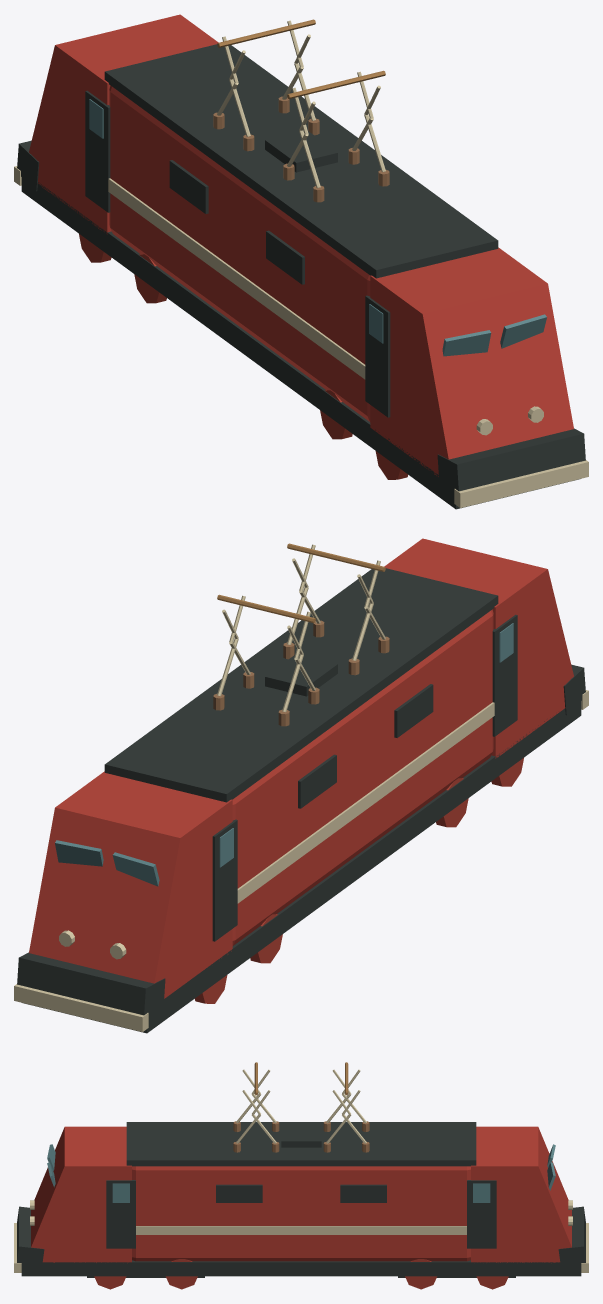
Rendered from nord-el-18_lod1.glb.
3 views of the same model, one above another, from view 1: azimuth 30°, elevation 25°; view 2: azimuth 150°, elevation 25°; view 3: azimuth 270°, elevation 25° (orthographic). The views are drawn at different scales.
Visible parts, largest first — view 1: RF_El18_Body, RF_El18_Roof, RF_El18_StreamlinedCab.001, RF_El18_StreamlinedCab, RF_El18_Chassis, RF_El18_LowerSkirt.001, RF_El18_SilverBand.001, RF_El18_BufferBeam.001, RF_El18_CabDoor.002, RF_El18_CabDoor.001, RF_El18_RoofEquipment, RF_El18_Intake.002 (+4 smaller); view 2: RF_El18_Body, RF_El18_Roof, RF_El18_StreamlinedCab, RF_El18_StreamlinedCab.001, RF_El18_Chassis, RF_El18_LowerSkirt, RF_El18_SilverBand.001, RF_El18_BufferBeam, RF_El18_CabDoor.001, RF_El18_CabDoor.002, RF_El18_RoofEquipment, RF_El18_Intake.001 (+4 smaller); view 3: RF_El18_Body, RF_El18_Roof, RF_El18_StreamlinedCab.001, RF_El18_StreamlinedCab, RF_El18_Chassis, RF_El18_SilverBand, RF_El18_CabDoor.003, RF_El18_CabDoor, RF_El18_LowerSkirt.001, RF_El18_LowerSkirt, RF_El18_Intake.003, RF_El18_Intake (+7 smaller).
Boxes of the visible parts, bbox=[...] form: RF_El18_Body: bbox=[109, 85, 370, 421]; RF_El18_Roof: bbox=[104, 44, 498, 278]; RF_El18_StreamlinedCab.001: bbox=[370, 247, 573, 476]; RF_El18_StreamlinedCab: bbox=[29, 14, 218, 234]; RF_El18_Chassis: bbox=[21, 177, 579, 509]; RF_El18_LowerSkirt.001: bbox=[437, 428, 585, 493]; RF_El18_SilverBand.001: bbox=[108, 178, 365, 379]; RF_El18_BufferBeam.001: bbox=[454, 460, 588, 507]; RF_El18_CabDoor.002: bbox=[85, 90, 110, 212]; RF_El18_CabDoor.001: bbox=[365, 295, 390, 417]; RF_El18_RoofEquipment: bbox=[265, 131, 337, 172]; RF_El18_Intake.002: bbox=[169, 160, 208, 213]; RF_El18_Body: bbox=[232, 609, 493, 945]; RF_El18_Roof: bbox=[104, 568, 498, 802]; RF_El18_StreamlinedCab: bbox=[29, 771, 232, 998]; RF_El18_StreamlinedCab.001: bbox=[384, 538, 573, 758]; RF_El18_Chassis: bbox=[23, 701, 581, 1033]; RF_El18_LowerSkirt: bbox=[17, 952, 165, 1017]; RF_El18_SilverBand.001: bbox=[237, 702, 494, 903]; RF_El18_BufferBeam: bbox=[14, 984, 148, 1031]; RF_El18_CabDoor.001: bbox=[492, 614, 517, 736]; RF_El18_CabDoor.002: bbox=[212, 819, 237, 941]; RF_El18_RoofEquipment: bbox=[265, 655, 337, 696]; RF_El18_Intake.001: bbox=[394, 684, 433, 737]; RF_El18_Body: bbox=[132, 1166, 470, 1261]; RF_El18_Roof: bbox=[126, 1122, 476, 1166]; RF_El18_StreamlinedCab.001: bbox=[31, 1126, 131, 1263]; RF_El18_StreamlinedCab: bbox=[471, 1126, 571, 1263]; RF_El18_Chassis: bbox=[21, 1260, 581, 1276]; RF_El18_SilverBand: bbox=[136, 1226, 466, 1234]; RF_El18_CabDoor.003: bbox=[106, 1180, 135, 1248]; RF_El18_CabDoor: bbox=[467, 1180, 496, 1248]; RF_El18_LowerSkirt.001: bbox=[17, 1206, 44, 1268]; RF_El18_LowerSkirt: bbox=[558, 1206, 585, 1268]; RF_El18_Intake.003: bbox=[216, 1184, 262, 1202]; RF_El18_Intake: bbox=[340, 1184, 386, 1202].
Bounding box in the file's own units: 3.14 × 6.84 × 18.5.
